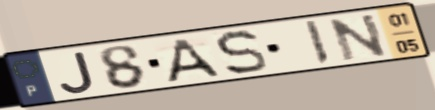8: (96, 44, 150, 90)
A: (164, 36, 224, 85)
I: (302, 18, 334, 67)
J: (57, 49, 98, 95)
N: (325, 11, 391, 63)
S: (212, 28, 271, 77)
